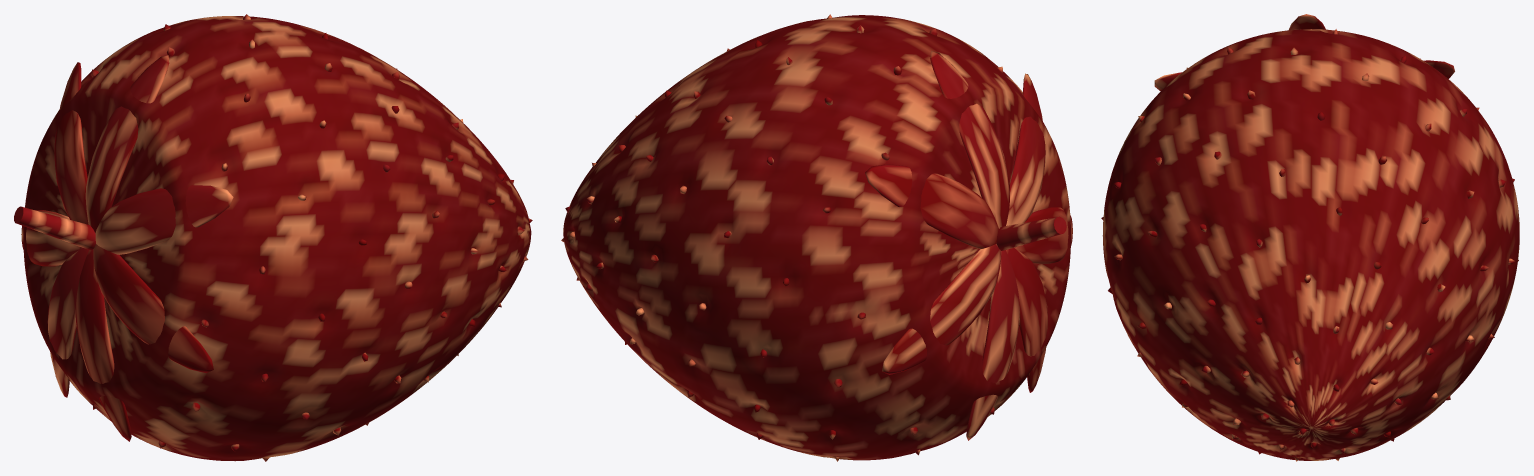
The model's file is strawberry.glb.
3 renders of one model, left to right at view 1: azimuth 30°, elevation 25°; view 2: azimuth 150°, elevation 25°; view 3: azimuth 270°, elevation 25°, orthographic. The views are drawn at different scales.
Visible parts, largest first — view 1: strawberry; view 2: strawberry; view 3: strawberry.
Part boxes in pixels (x1,y1,x2,y2): strawberry: (14, 14, 532, 461); strawberry: (561, 14, 1072, 461); strawberry: (1101, 14, 1519, 461).
Size of the model in its own units: 2 by 1.55 by 1.54.
